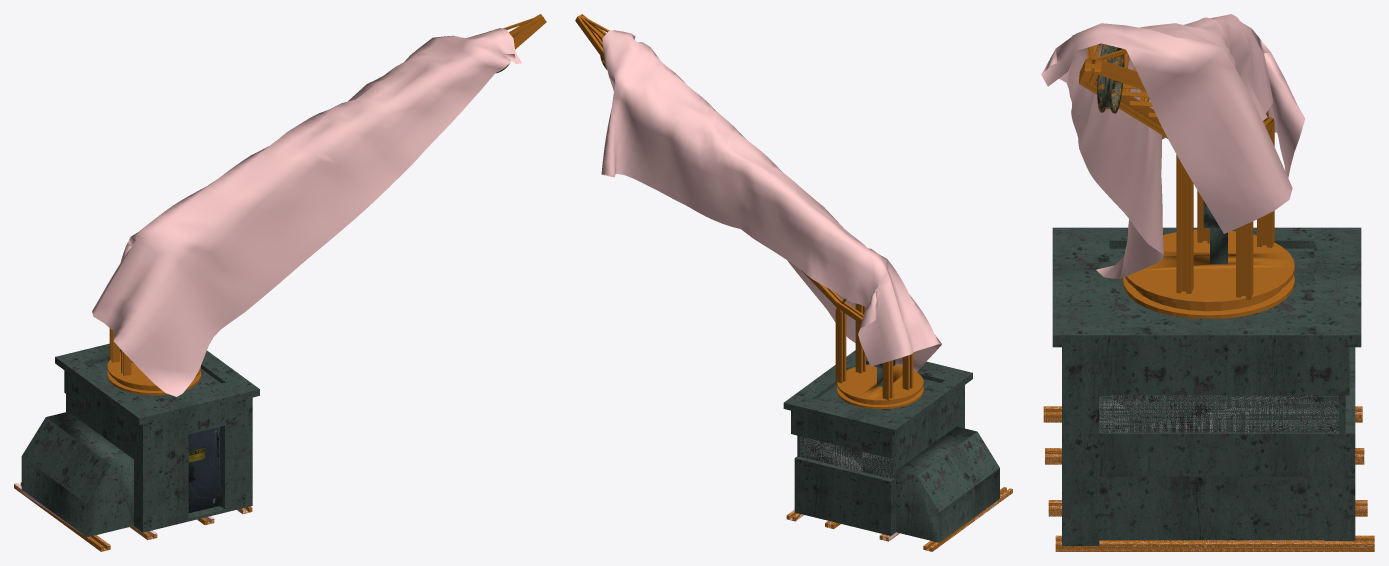
File: Crane m.fbx
3 renders of one model, left to right at view 1: azimuth 30°, elevation 25°; view 2: azimuth 150°, elevation 25°; view 3: azimuth 270°, elevation 25°, orthographic. The views are drawn at different scales.
Parts seen in each view (by area): view 1: Misc, Group1; view 2: Misc, Group1; view 3: Group1, Misc.
Part boxes in pixels (<box>): Misc: <box>92,28,521,396</box>; Group1: <box>14,14,546,551</box>; Misc: <box>601,30,941,371</box>; Group1: <box>575,14,1012,551</box>; Group1: <box>1043,43,1374,551</box>; Misc: <box>1041,14,1305,278</box>.
Bounding box in the file's own units: 97.84 × 84.74 × 33.67.
